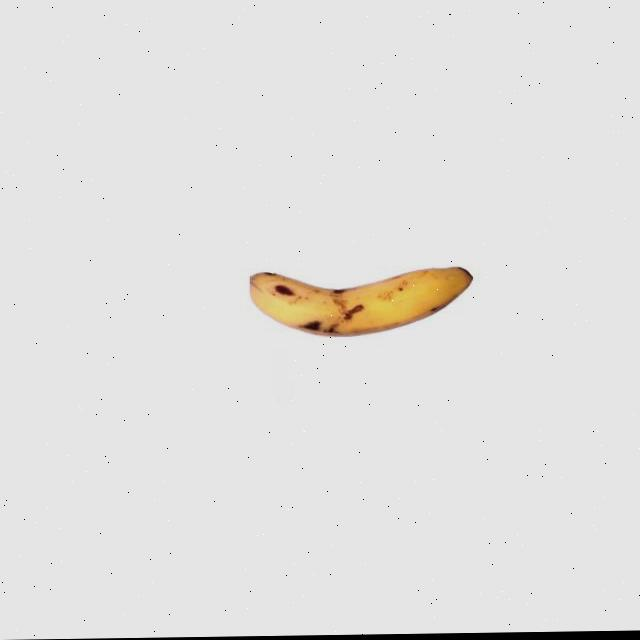banana: (246, 262, 475, 341)
